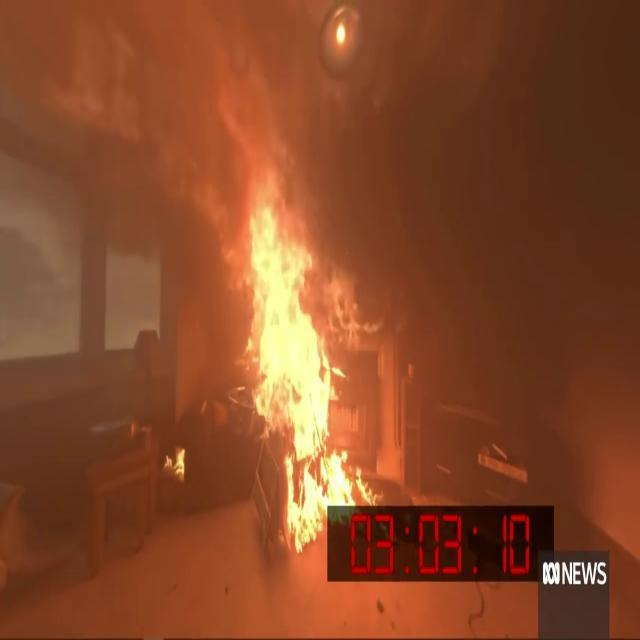Fire: (238, 187, 357, 517)
Smoke: (380, 11, 640, 478), (35, 126, 206, 472)
